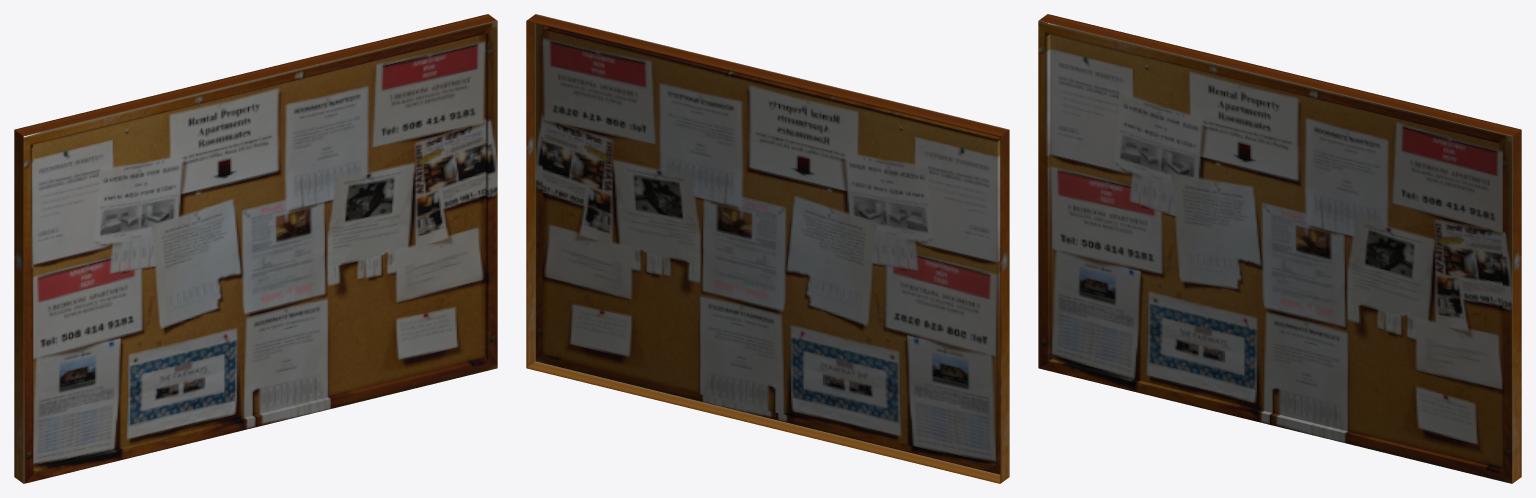
Rendered from apartment_notice.FBX.
The picture shows the model from 3 angles, left to right: view 1: azimuth 30°, elevation 25°; view 2: azimuth 150°, elevation 25°; view 3: azimuth 330°, elevation 25°; orthographic projection.
Visible parts, largest first — view 1: apartment_notice; view 2: apartment_notice; view 3: apartment_notice.
Part boxes in pixels (x1,y1,x2,y2): apartment_notice: (14, 14, 497, 483); apartment_notice: (526, 14, 1009, 483); apartment_notice: (1038, 14, 1521, 483).
Size of the model in its own units: 146 by 102 by 5.06.
